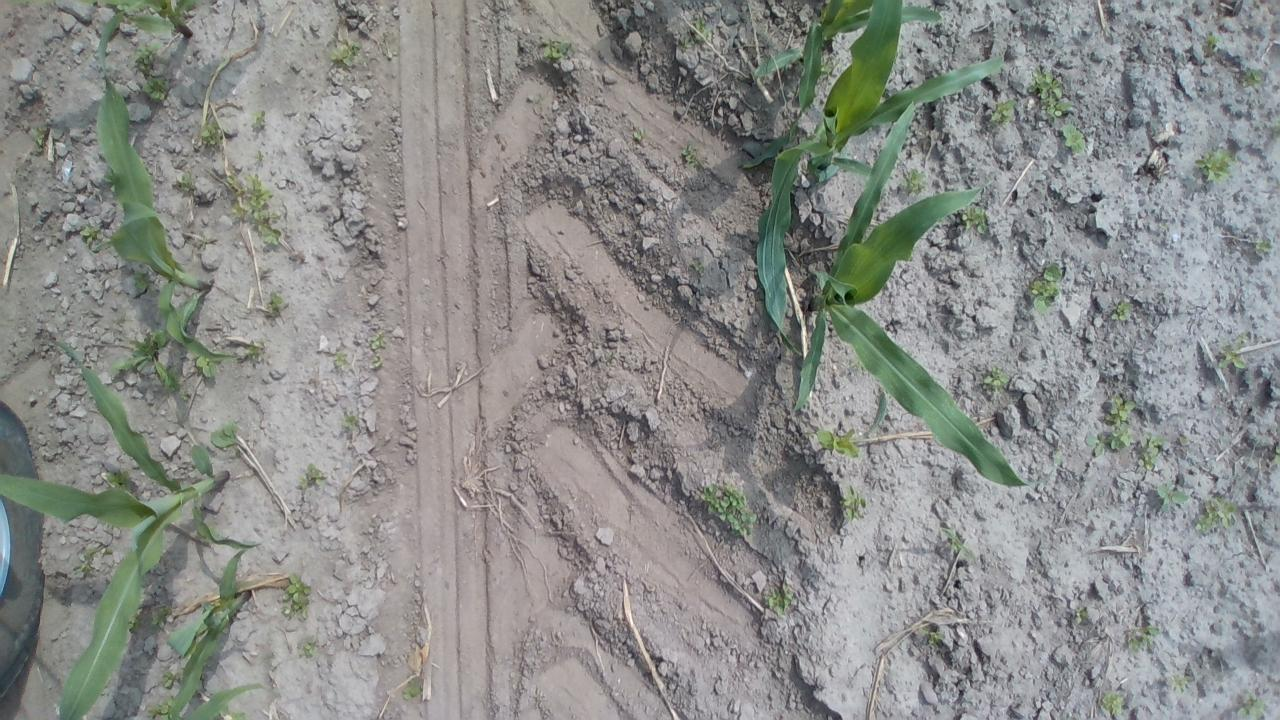Maize: (796, 102, 1060, 496), (0, 335, 263, 720), (751, 0, 1005, 354), (93, 0, 249, 369), (754, 0, 942, 176), (167, 544, 253, 718), (184, 677, 281, 719), (121, 0, 206, 40)
Weeds: (109, 327, 185, 398), (224, 168, 285, 246), (699, 479, 758, 538), (1090, 394, 1136, 456), (1028, 66, 1075, 124), (1027, 261, 1066, 316), (1194, 493, 1236, 533), (1193, 146, 1236, 184), (278, 574, 312, 622), (816, 426, 864, 458), (1136, 431, 1168, 473), (940, 524, 976, 560), (1216, 332, 1248, 372), (838, 480, 868, 522), (1155, 479, 1191, 512), (679, 15, 711, 50), (328, 38, 364, 68), (763, 582, 794, 616), (295, 461, 328, 490), (539, 36, 578, 60), (896, 168, 930, 195), (960, 204, 989, 235), (1061, 120, 1087, 154), (210, 420, 240, 449), (1127, 624, 1159, 651), (144, 696, 180, 718), (1236, 692, 1266, 718), (982, 367, 1009, 395), (192, 352, 221, 378), (140, 78, 170, 103), (80, 222, 103, 254), (134, 43, 160, 71), (680, 142, 706, 170), (1100, 690, 1126, 716), (128, 268, 154, 294), (916, 626, 942, 650), (76, 544, 96, 575), (1109, 299, 1134, 323), (990, 99, 1014, 124), (105, 470, 132, 492), (200, 122, 223, 146), (150, 605, 170, 632), (1242, 68, 1266, 90), (1203, 32, 1224, 56), (1166, 672, 1191, 692), (266, 291, 286, 316), (161, 667, 183, 689), (332, 348, 352, 371), (402, 677, 422, 700), (32, 126, 48, 153), (244, 338, 263, 360), (818, 58, 834, 82), (340, 413, 360, 432), (298, 637, 318, 656), (369, 331, 387, 350), (126, 615, 144, 633), (1254, 238, 1272, 256), (175, 172, 193, 190), (250, 110, 264, 130), (690, 258, 706, 274), (1073, 608, 1087, 624), (632, 127, 648, 140), (368, 356, 384, 368), (198, 231, 210, 244)
